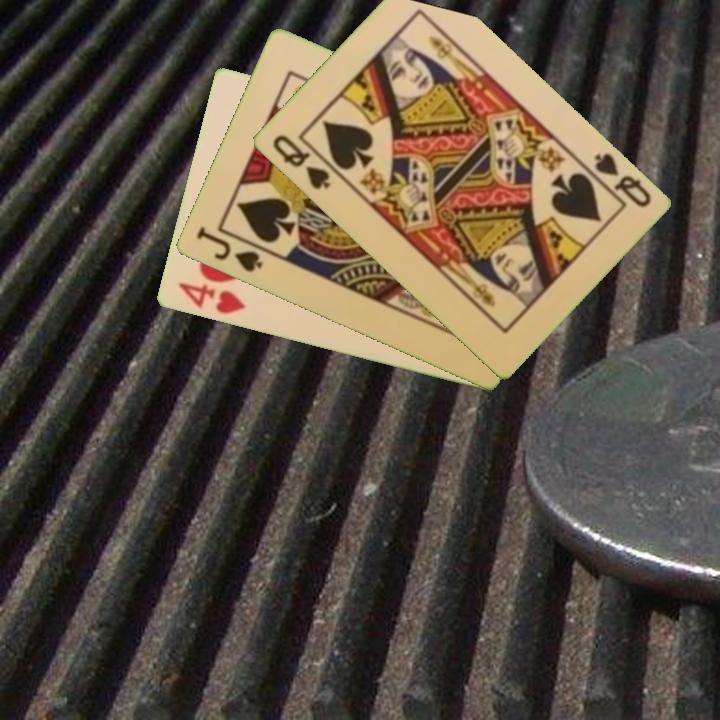4h: (173, 279, 248, 317)
Js: (192, 223, 265, 276)
Qs: (580, 149, 653, 210), (268, 131, 333, 193)
